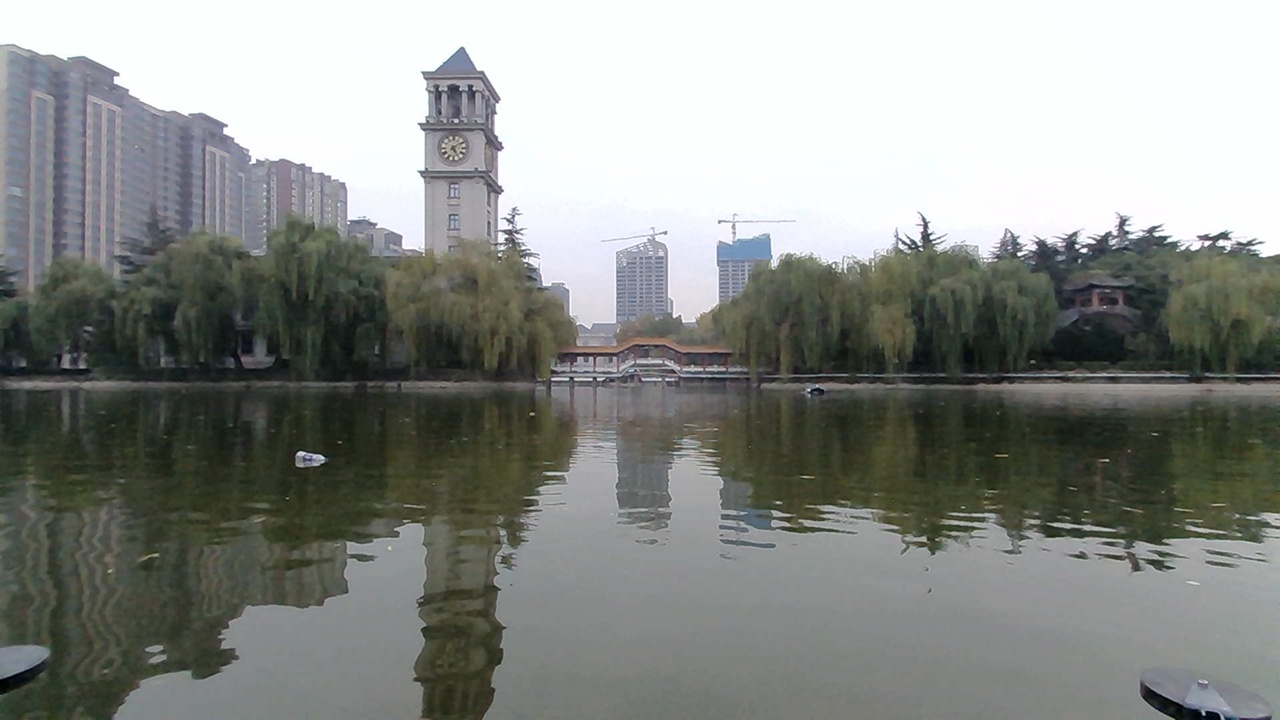bottle: (302, 439, 354, 477)
